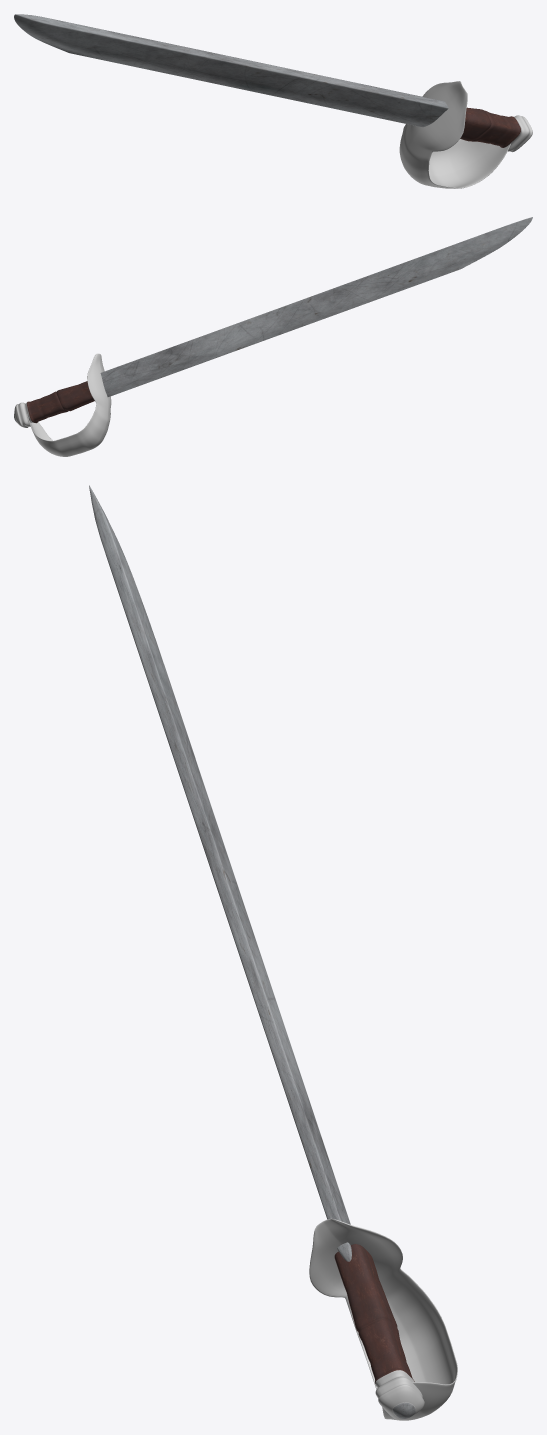
3 renders of one model, top to bottom at view 1: azimuth 30°, elevation 25°; view 2: azimuth 150°, elevation 25°; view 3: azimuth 270°, elevation 25°, orthographic. The views are drawn at different scales.
Parts seen in each view (by area): view 1: Sword; view 2: Sword; view 3: Sword.
Boxes of the visible parts, x1,y1,x2,y2 form: Sword: [14, 14, 532, 188]; Sword: [14, 217, 532, 456]; Sword: [89, 485, 457, 1420].
Bounding box in the file's own units: 47.89 × 28.53 × 17.38.
